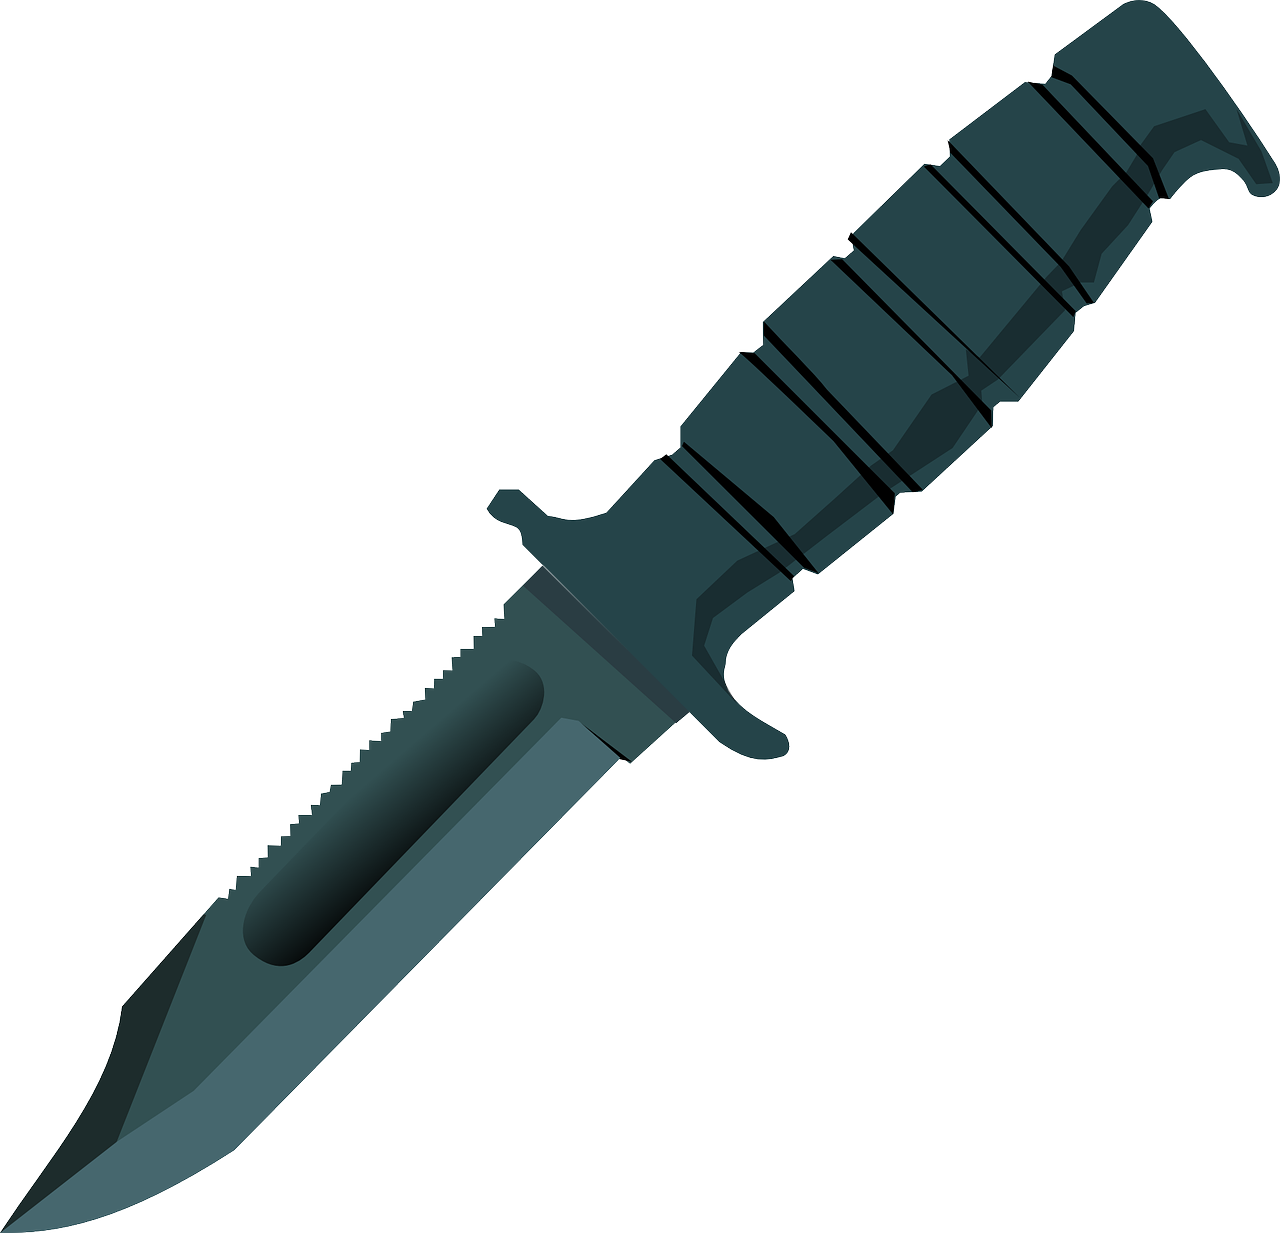knife: (7, 0, 1280, 1231)
